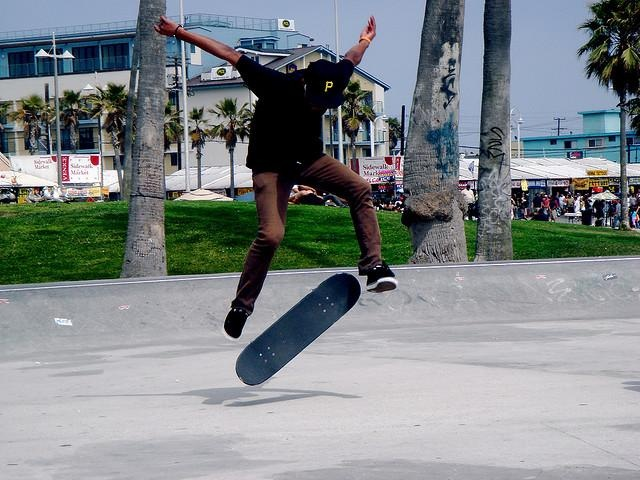person: (153, 12, 398, 335)
